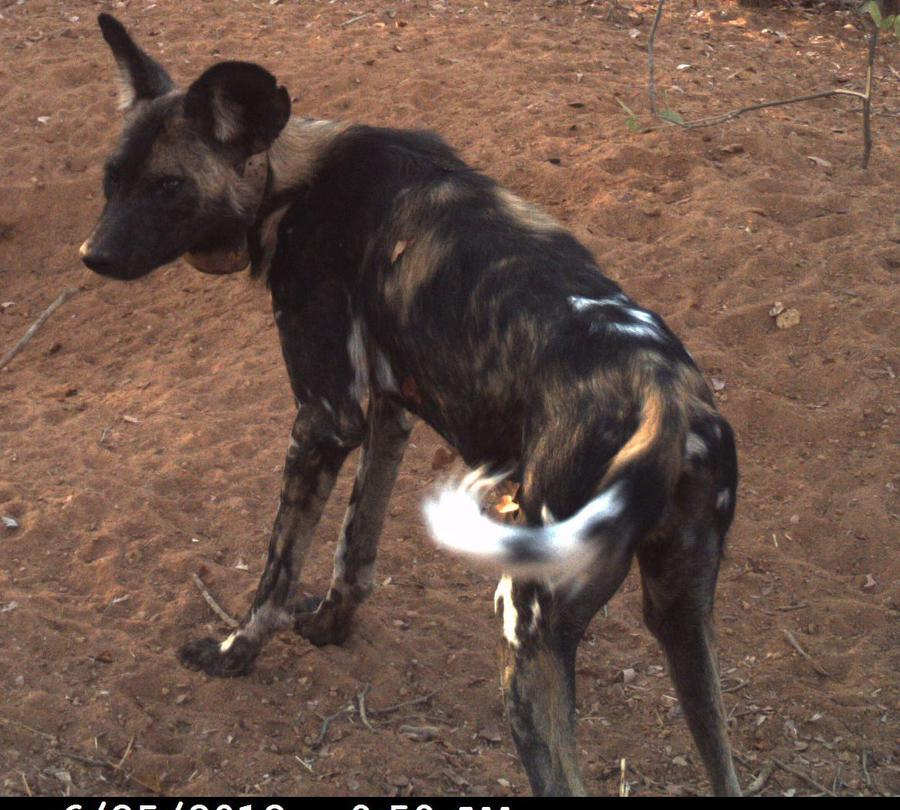wilddog: (184, 101, 719, 631)
